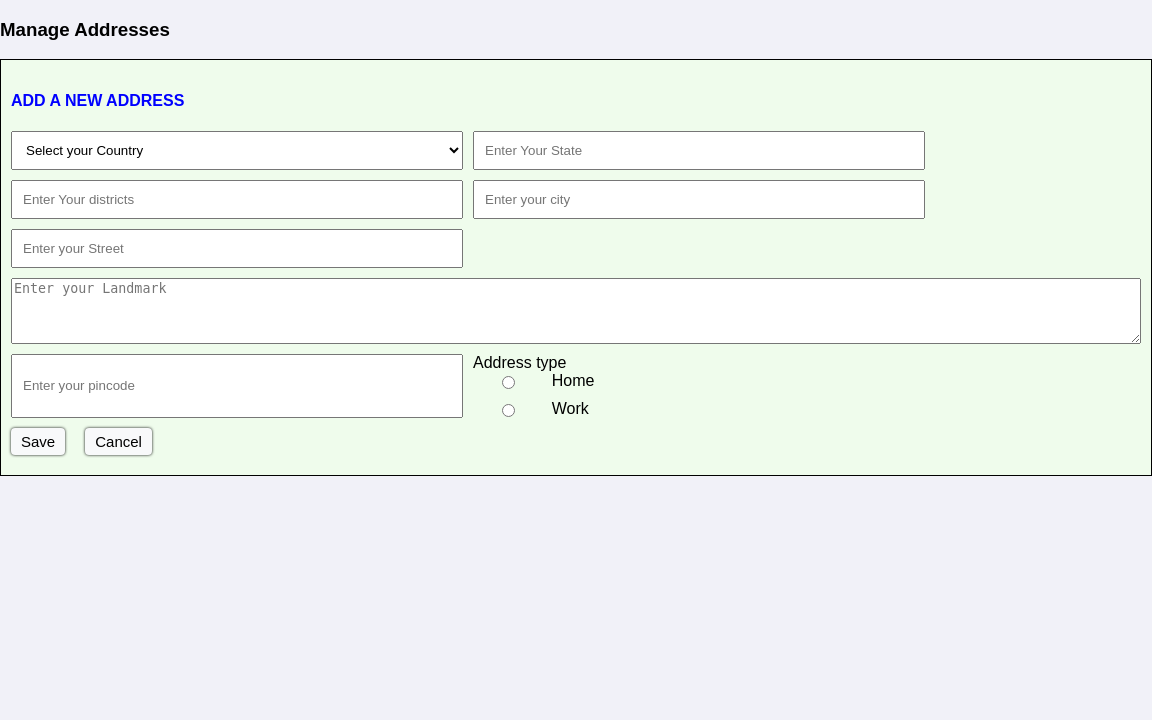
Test case: MyProfileContainer › creates address successfully
The width and height of the screenshot is (1152, 720).
Type "Karnataka" into the field with placeholder "Enter Your State" at (699, 150), box [473,131,925,170]
Type "Bagalkot" into the field with placeholder "Enter Your districts" at (237, 200), box [11,180,463,219]
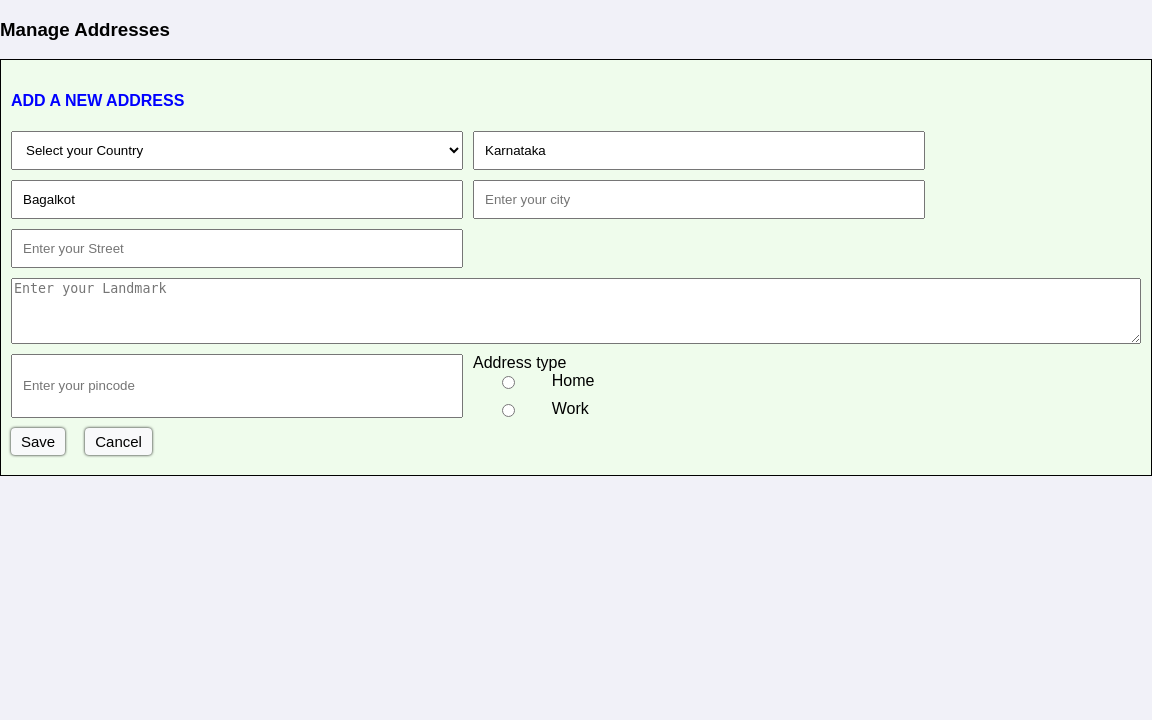
Type "Mudhol" into the field with placeholder "Enter your city" at (699, 200), box [473,180,925,219]
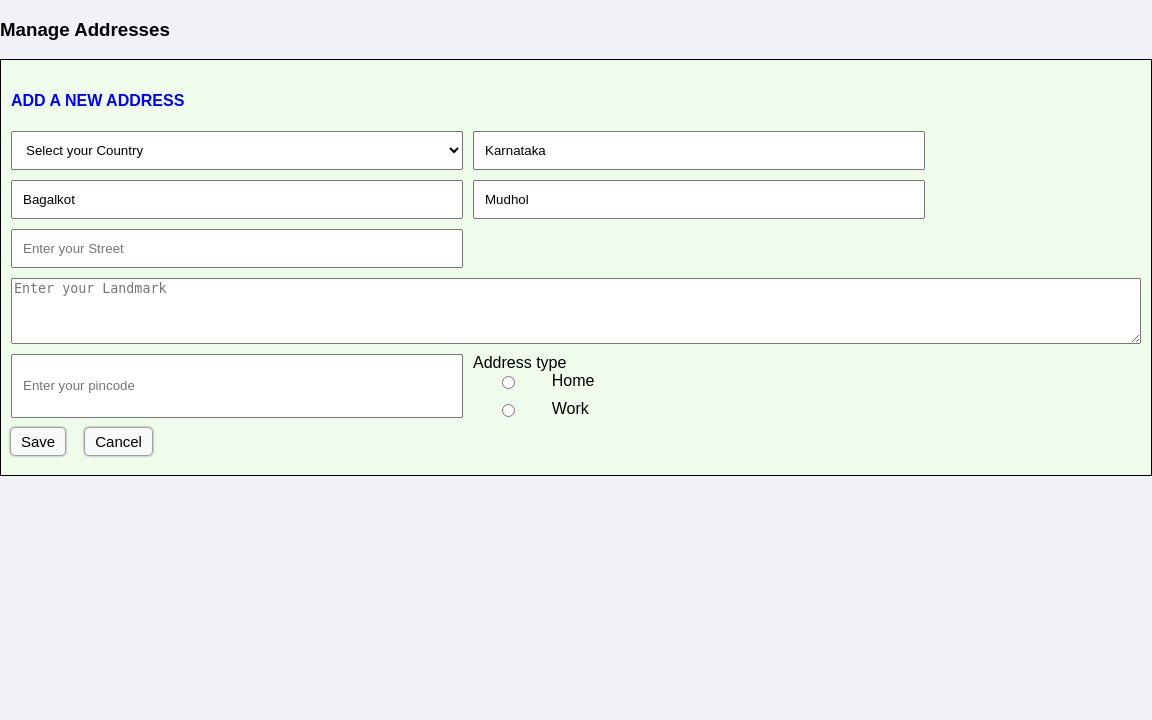
Type "Main Road" into the field with placeholder "Enter your Street" at (237, 248), box [11,229,463,268]
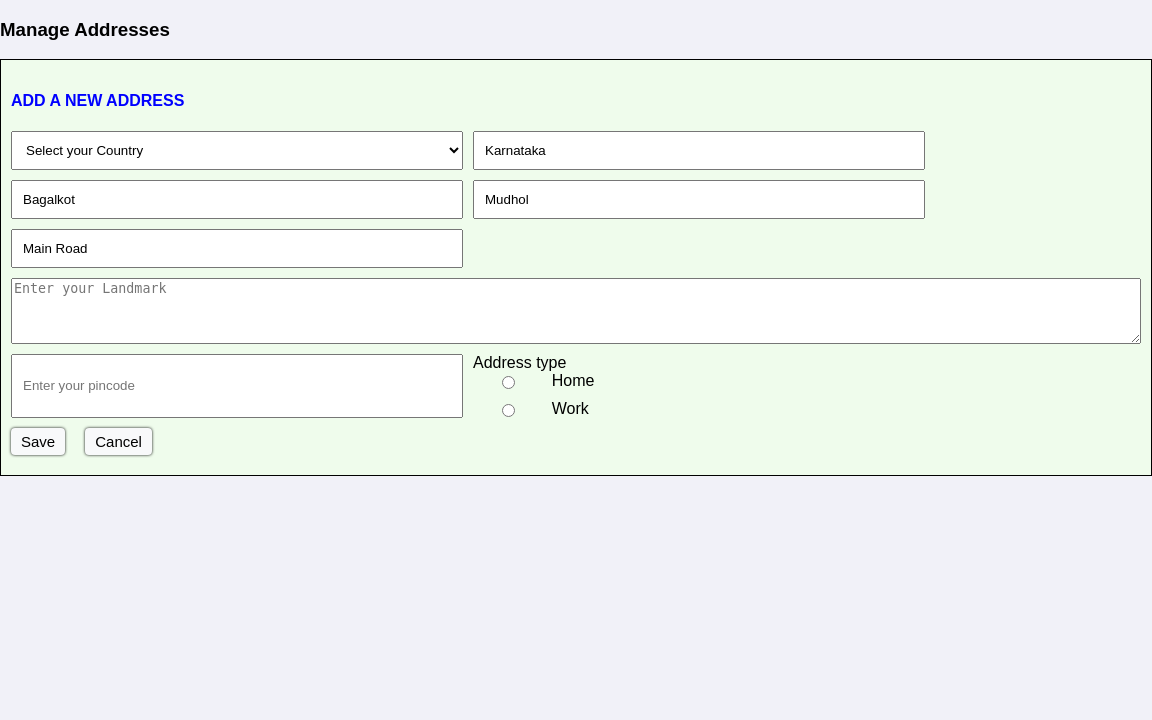
Type "Bus Stand" into the text box with placeholder "Enter your Landmark" at (576, 311), box [11,278,1141,344]
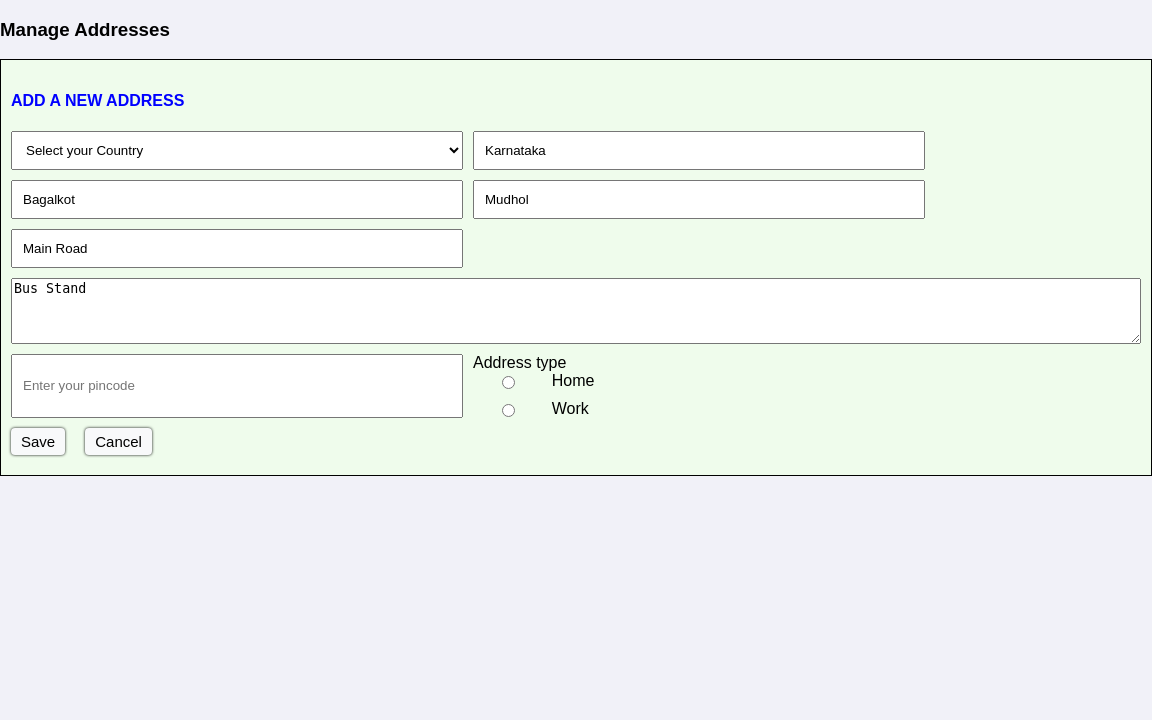
Type "587313" into the field with placeholder "Enter your pincode" at (237, 386), box [11,354,463,418]
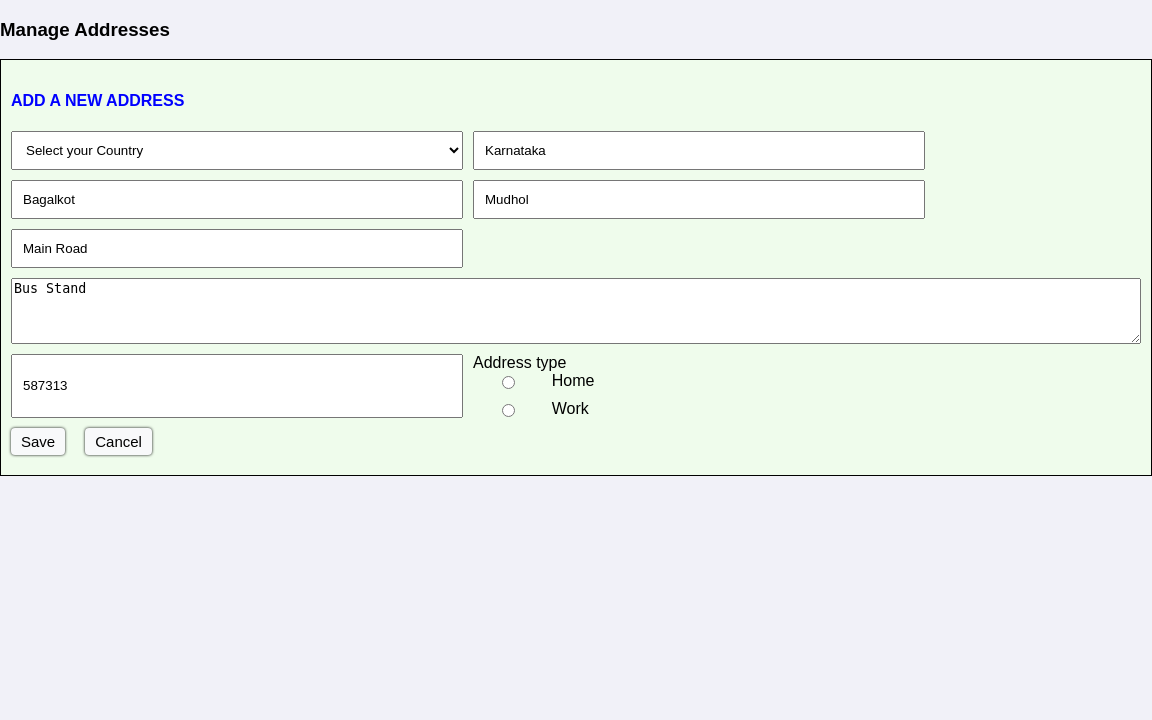
Click the button "Save" at (38, 442), box [11,428,65,455]
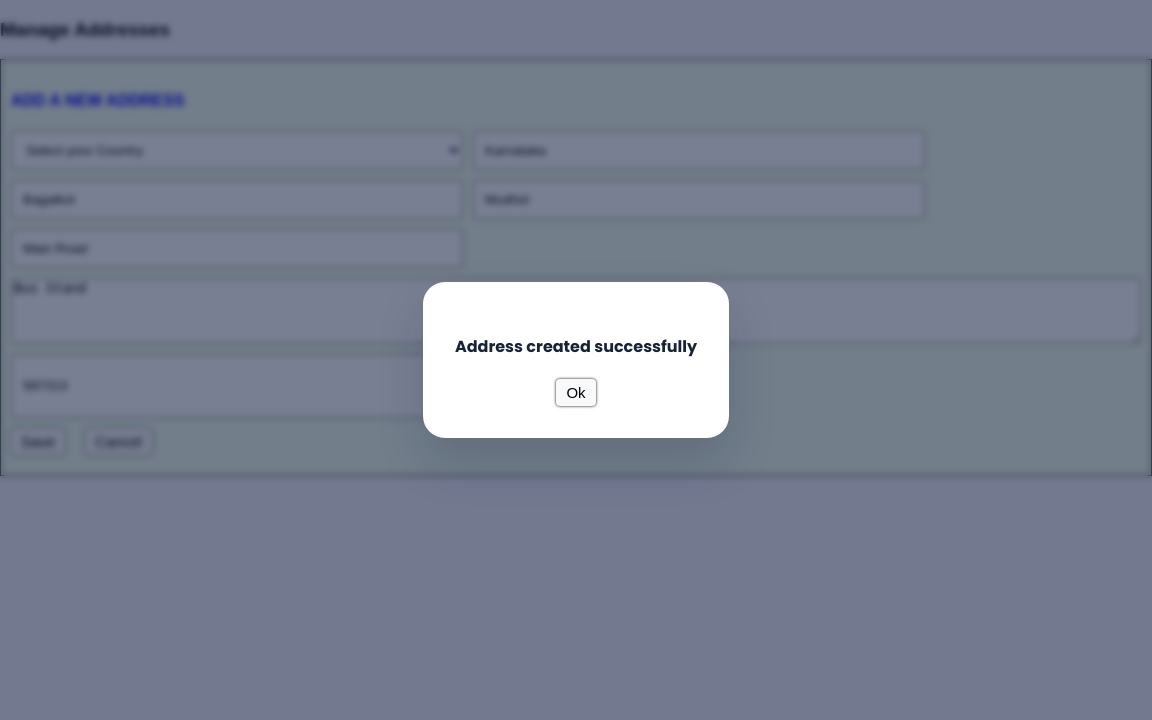
Result: the heading "Address created successfully" is shown at [455,335,697,359]
